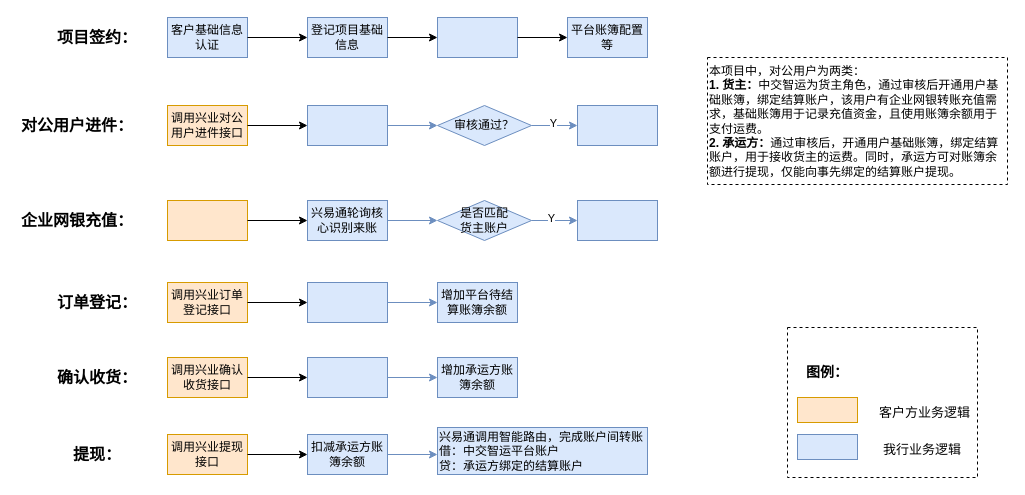
Some shapes in this 1025 by 495 pixel diagram are drawn without their labels. The shapes that lost their labels are listed below. From the top down, each one's box as (x1, y1, x2, y2) in pixels, then its label:
(436, 16, 518, 58): 结算周期配置
(306, 104, 388, 146): 分行审核
(576, 104, 658, 146): 开立对公用户 账簿
(166, 200, 248, 240): 中交智运他行同名账户转账
(576, 200, 658, 240): 完成货主账簿记账
(306, 282, 388, 322): 扣减货主基础账簿余额
(306, 356, 388, 398): 扣减平台待结算账簿余额
